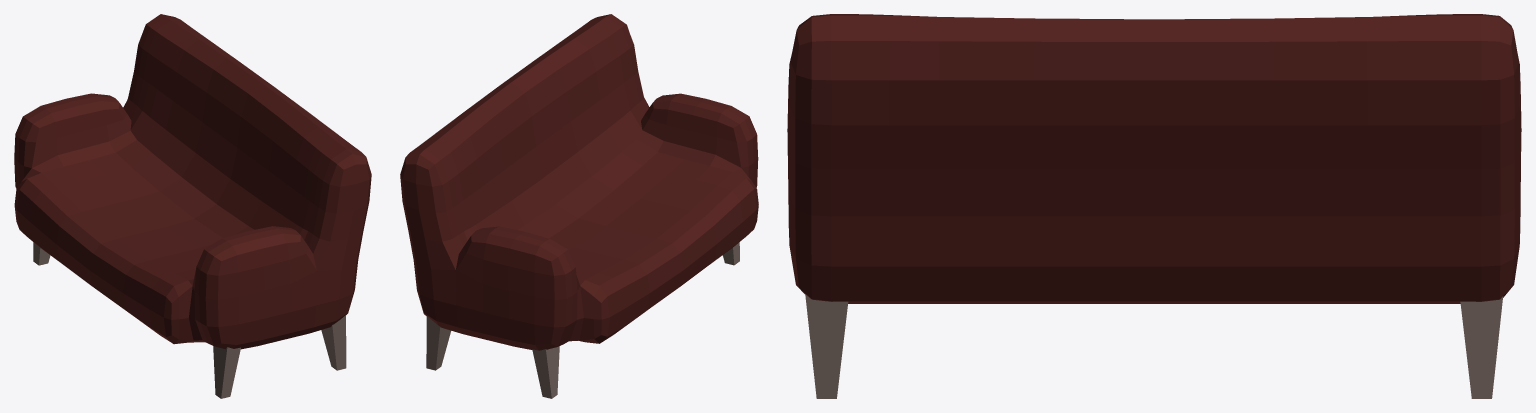
The model's file is Sofa.fbx.
3 renders of one model, left to right at view 1: azimuth 30°, elevation 25°; view 2: azimuth 150°, elevation 25°; view 3: azimuth 270°, elevation 25°, orthographic. The views are drawn at different scales.
Parts seen in each view (by area): view 1: Sofa; view 2: Sofa; view 3: Sofa.
Boxes of the visible parts, bbox=[...] form: Sofa: bbox=[14, 14, 371, 398]; Sofa: bbox=[400, 14, 758, 398]; Sofa: bbox=[787, 14, 1521, 398].
Size of the model in its own units: 357 by 391 by 672.
